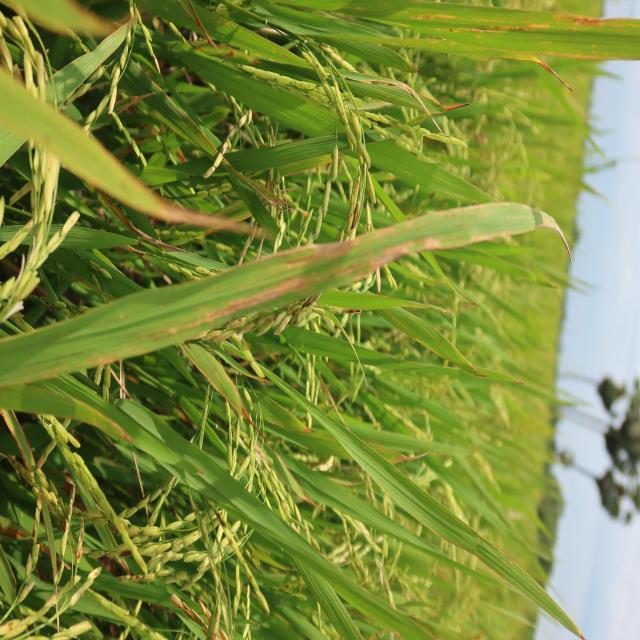Dom soc vi khuan: (147, 233, 446, 349), (62, 338, 144, 373), (525, 10, 619, 32), (401, 0, 463, 22), (434, 23, 524, 35)
